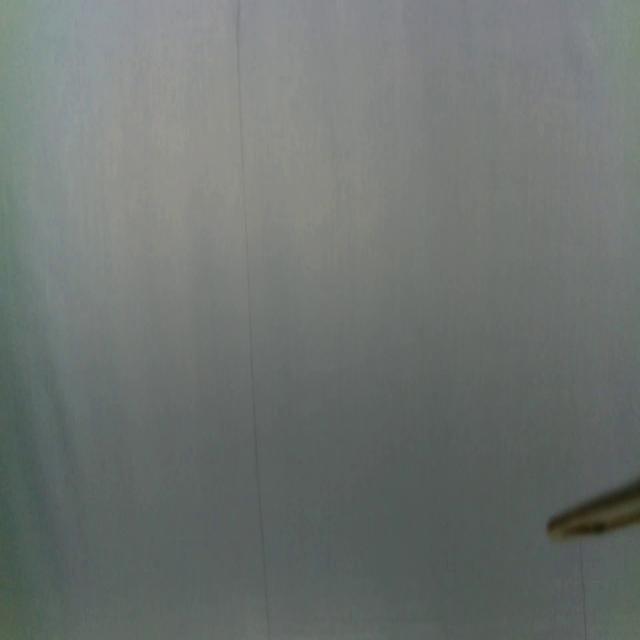crease: (235, 1, 270, 640), (580, 539, 588, 640)
